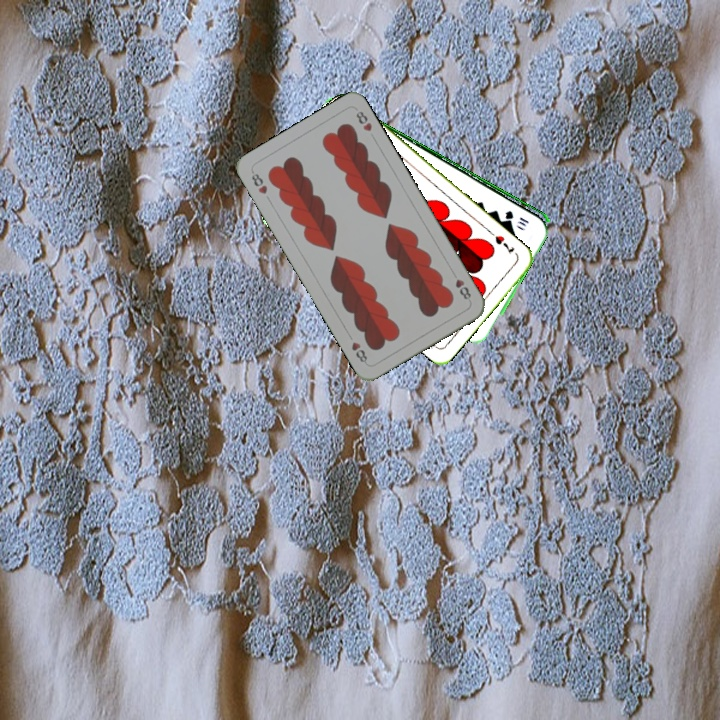G10: (501, 206, 531, 226)
H7: (491, 231, 517, 257)
H8: (247, 167, 270, 197), (451, 275, 474, 302)
